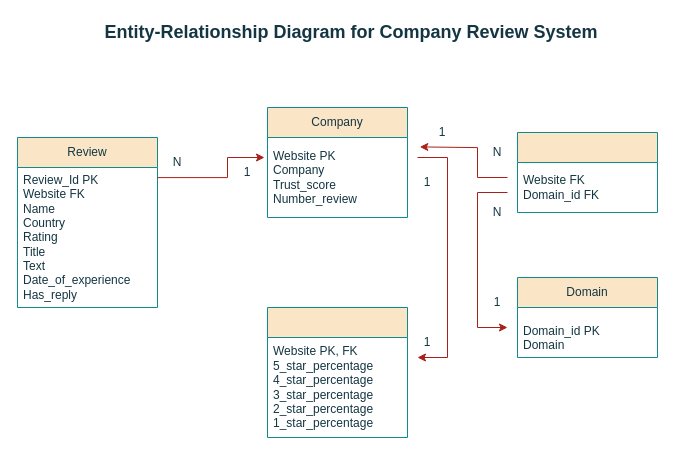
This 675x455 diagram has some shape labels left out. Each missing label, with the box of its shape:
Company_Domain: (516, 132, 658, 212)
Rating: (266, 306, 408, 438)
